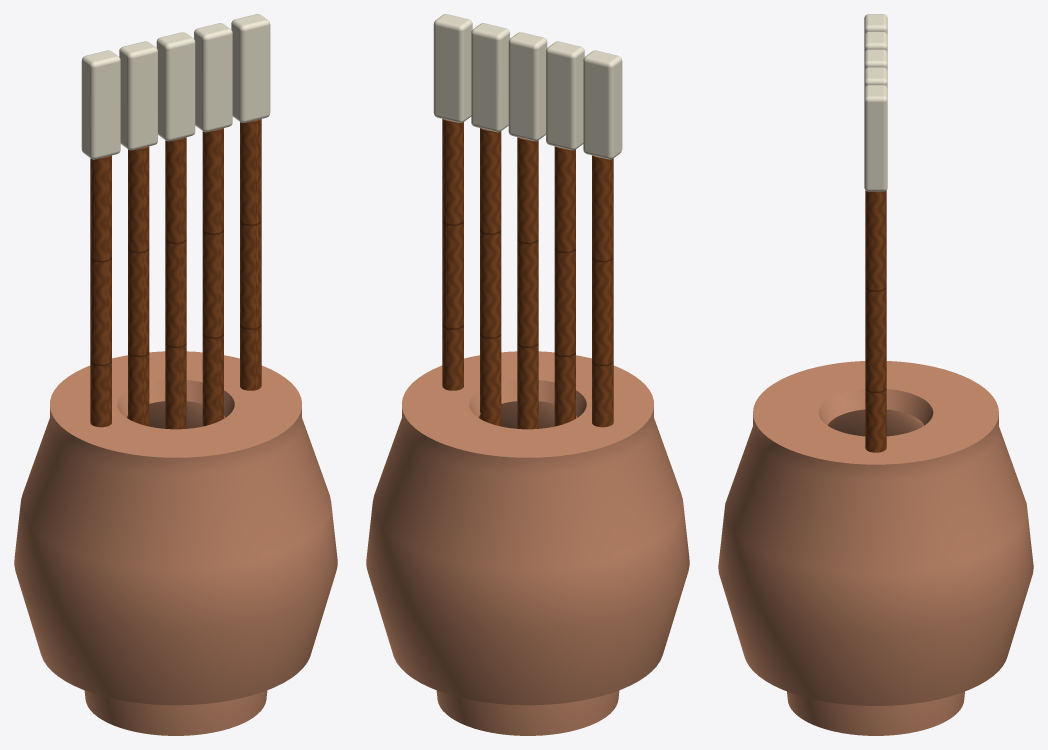
Rendered from ceramics-pottery-studio-glaze-brush-cup-962dcb85__29502.glb.
3 views of the same model, side by side, from view 1: azimuth 30°, elevation 25°; view 2: azimuth 150°, elevation 25°; view 3: azimuth 270°, elevation 25° (orthographic). The views are drawn at different scales.
Visible parts, largest first — view 1: glaze-brush-cup; view 2: glaze-brush-cup; view 3: glaze-brush-cup.
Part boxes in pixels (left/top/right/bottom): glaze-brush-cup: left=14, top=14, right=337, bottom=735; glaze-brush-cup: left=366, top=14, right=689, bottom=735; glaze-brush-cup: left=718, top=14, right=1033, bottom=735.
Size of the model in its own units: 0.12 by 0.27 by 0.12.
3 materials, 1 textured.
